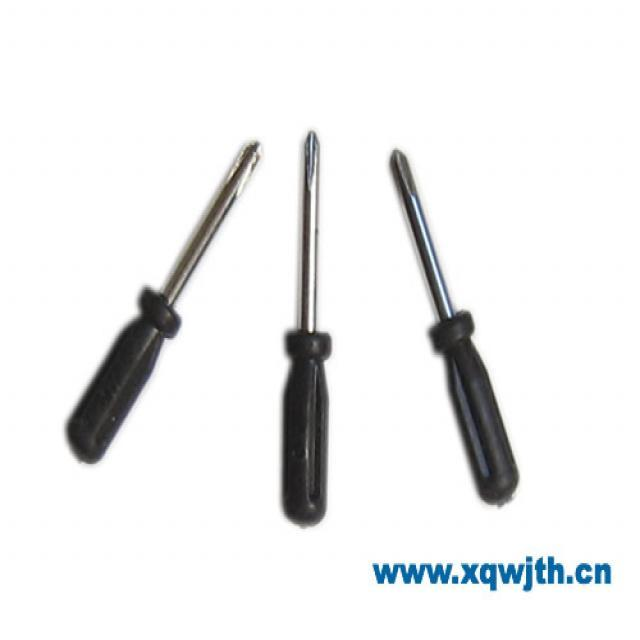screwdriver: (50, 113, 261, 472), (377, 116, 525, 518), (272, 107, 346, 538)
